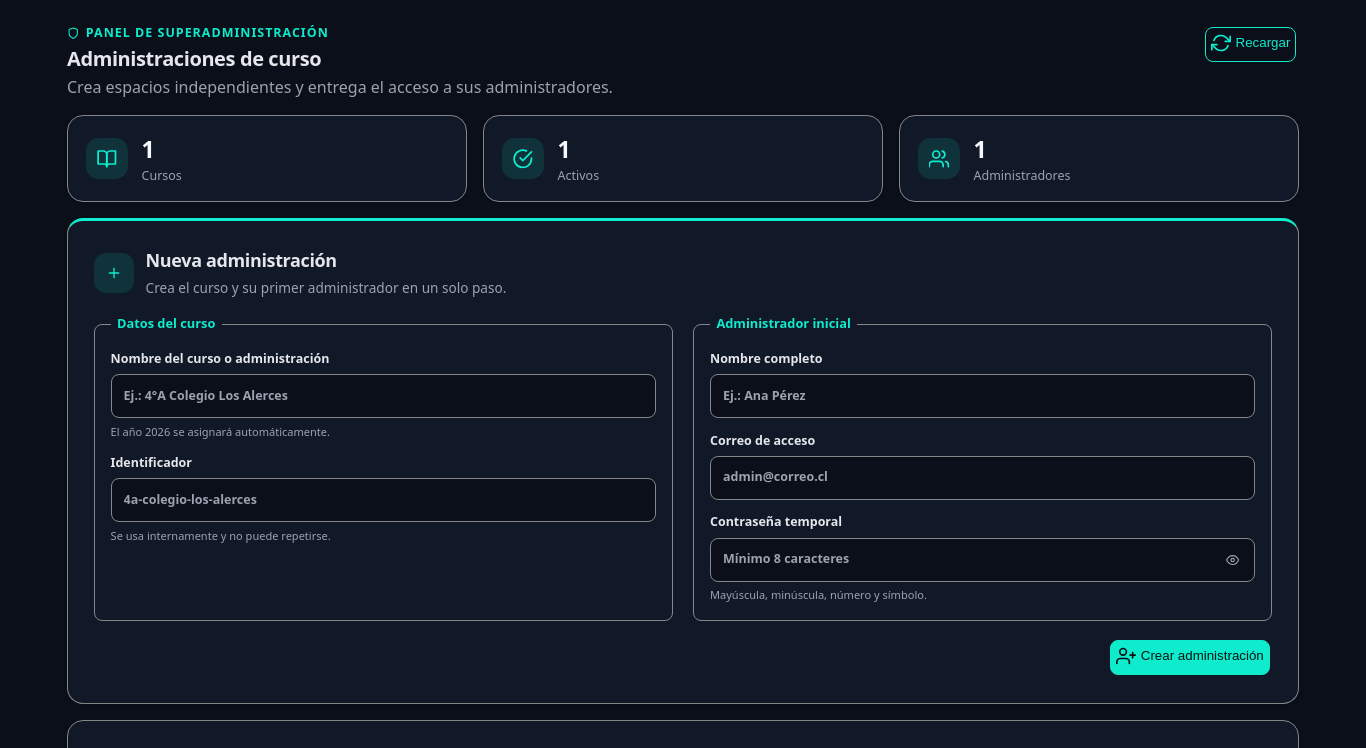
Test: course administration through HTTP › creates an organization before its first administrator and normalizes identity fields
Type "Séptimo B" into the field labelled "Nombre del curso o administración" at (383, 396), box [111,374,656,418]
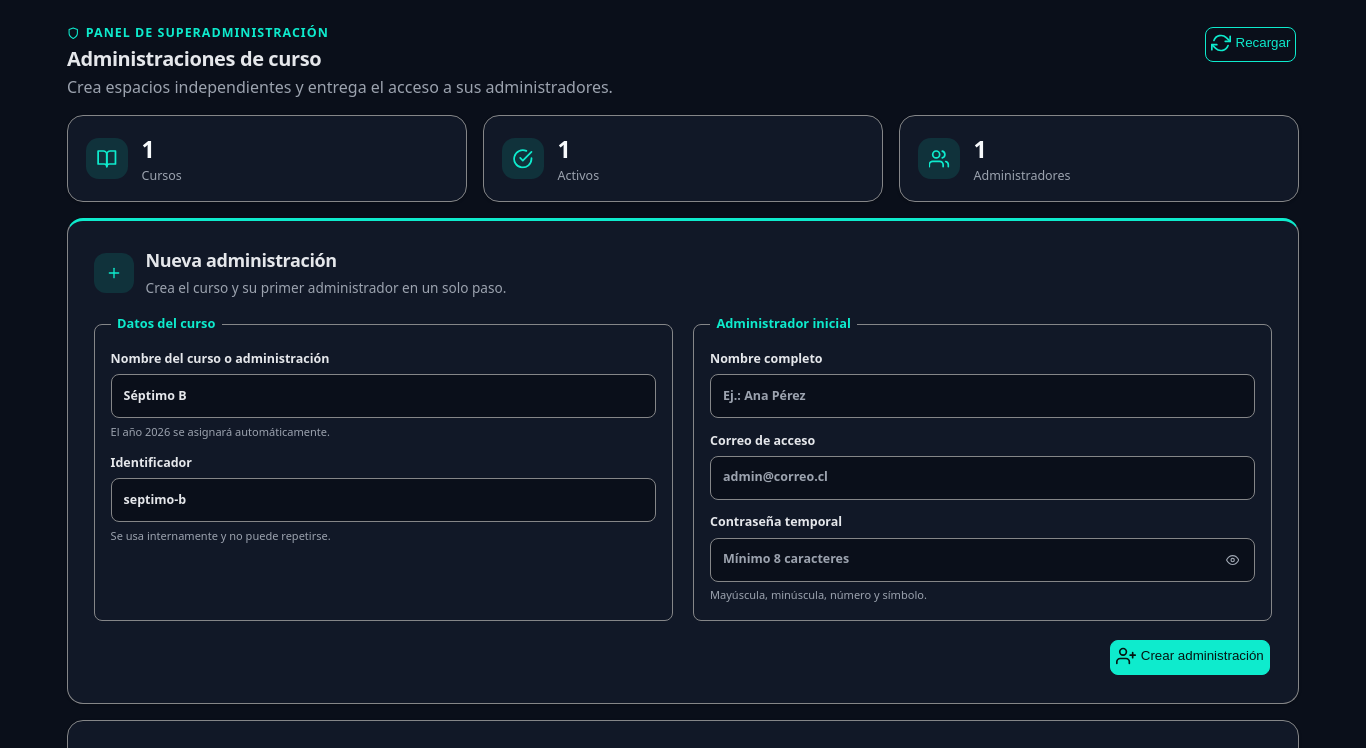
Type "  Ana Pérez  " into the field labelled "Nombre completo" at (983, 396), box [710,374,1255,418]
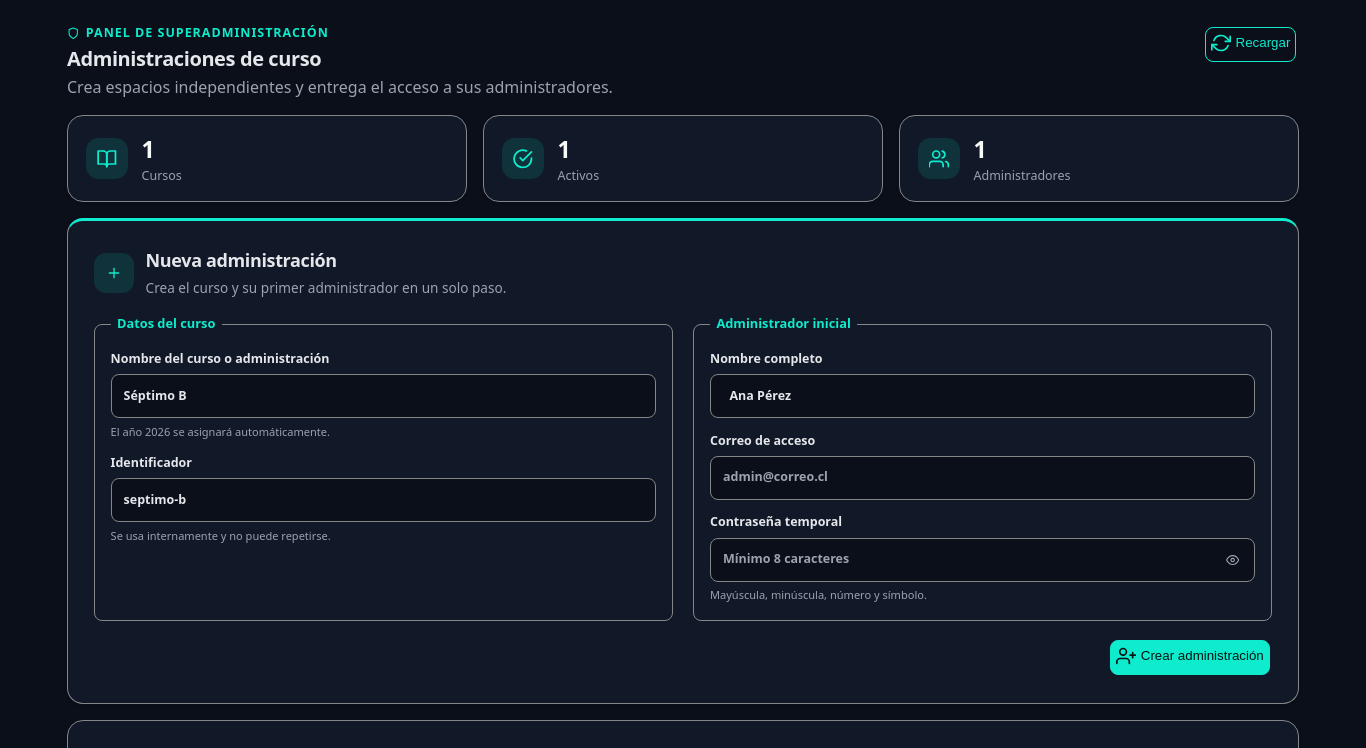
Type "ANA@EXAMPLE.CL" into the field labelled "Correo de acceso" at (983, 478), box [710,456,1255,500]
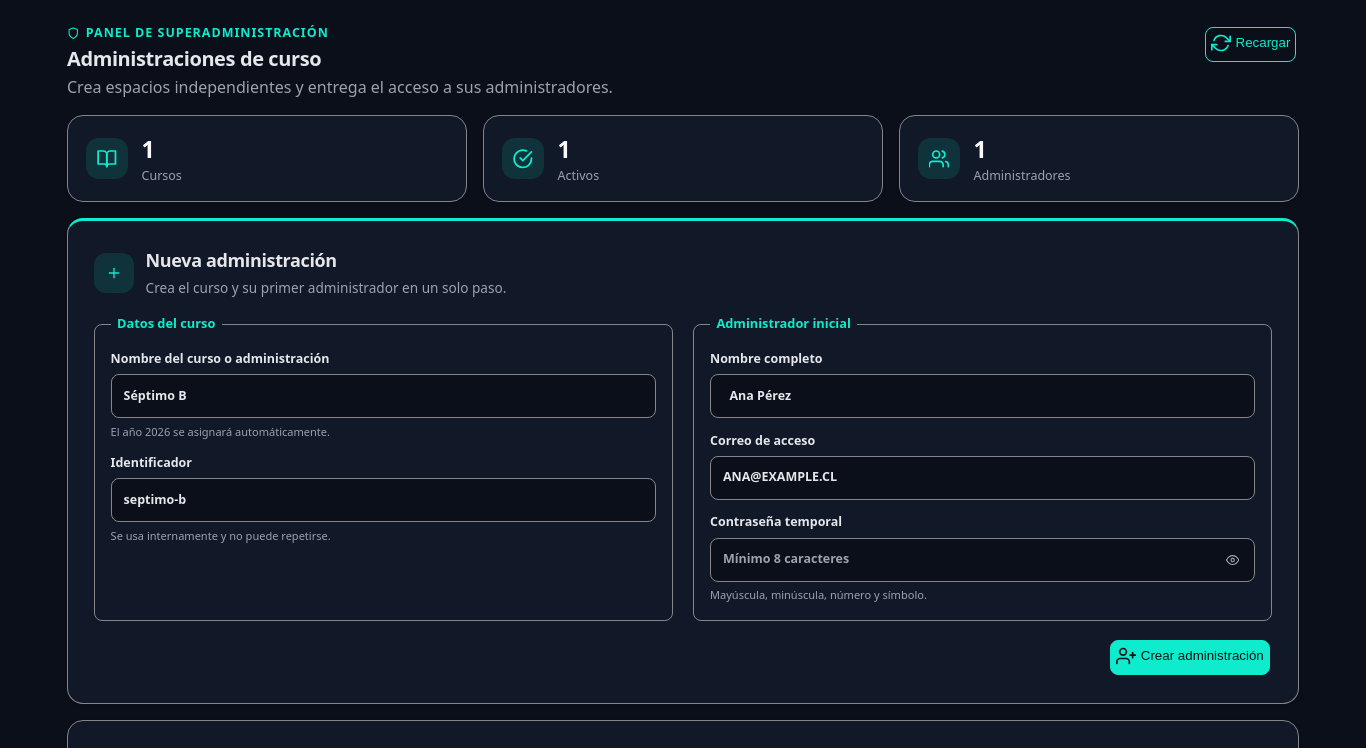
Type "ValidPass1!" into the password field labelled "Contraseña temporal" at (983, 560), box [710,538,1255,582]
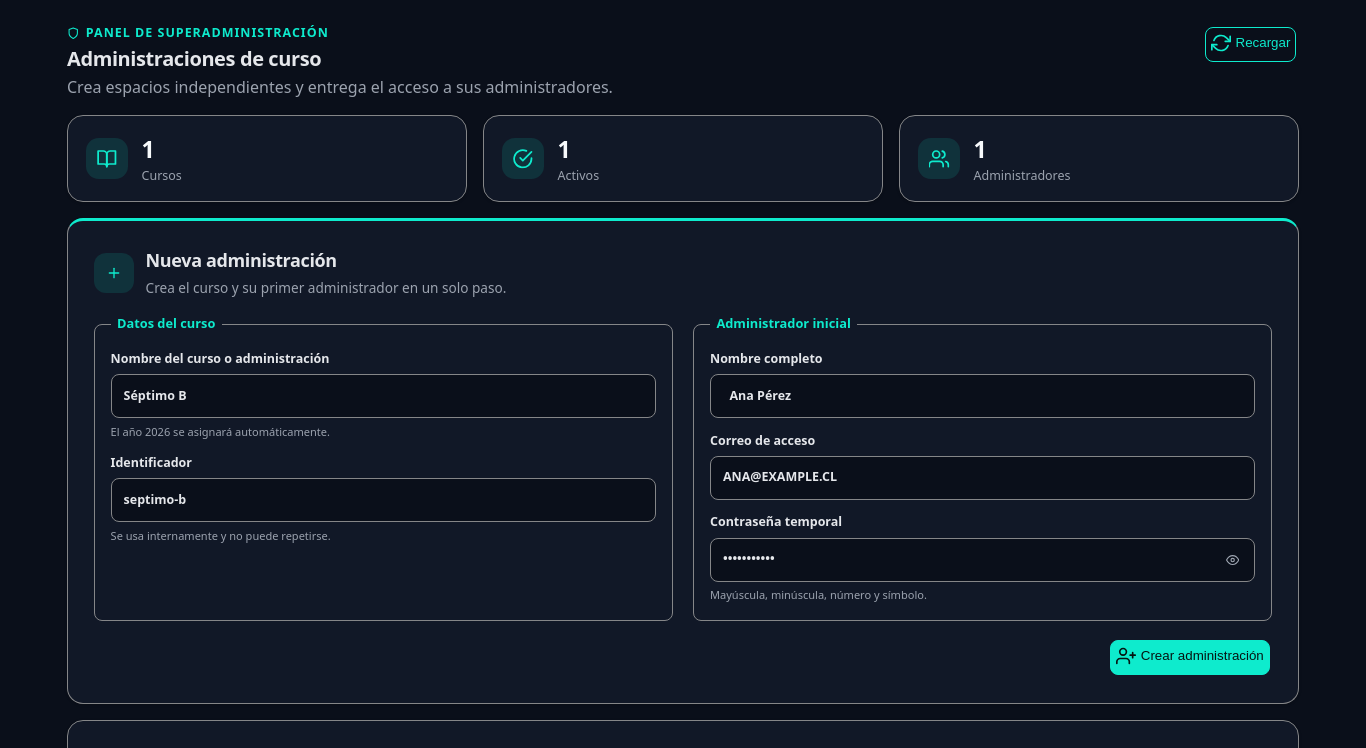
expect the field labelled "Identificador" holds "septimo-b": met, box [111,478,656,522]
Click the button "Crear administración" at (1190, 657), box [1110,640,1270,674]
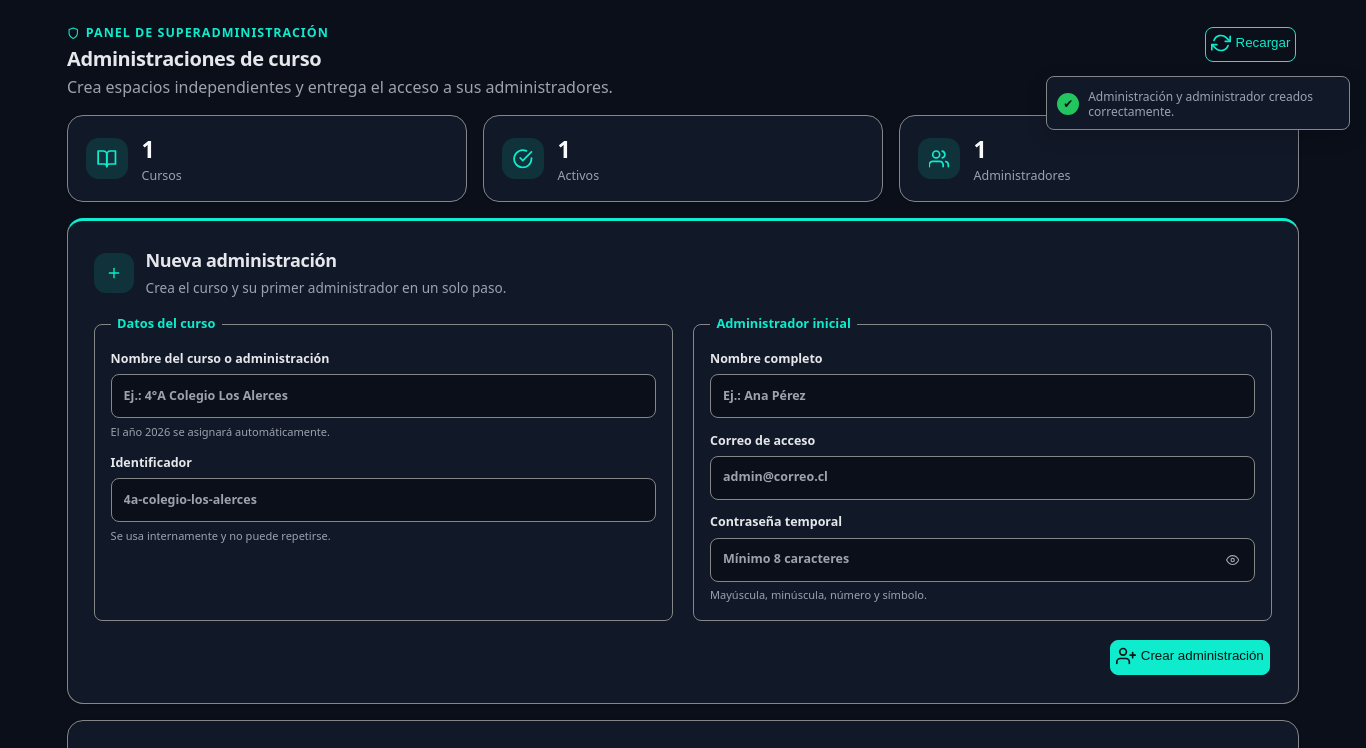
expect the text "Administración y administrador creados correctamente." is shown: met, box [1088,89,1339,120]
expect the field labelled "Identificador" is empty: met, box [111,478,656,522]
